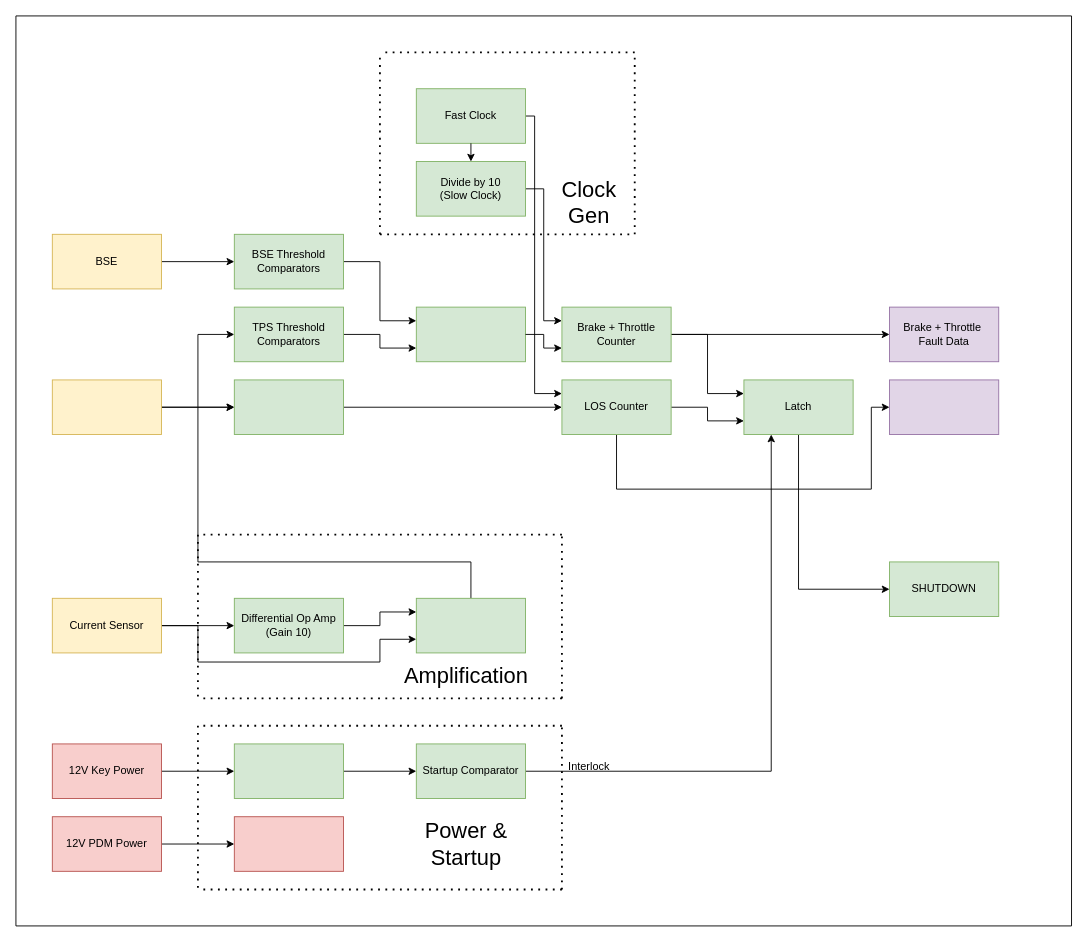
Image size: 1088x943. Some labels were removed from this diagram. Each missing label, with the box of its shape:
5V LDO: (233, 816, 344, 871)
AND Gate: (415, 306, 526, 362)
LOS Comparators: (233, 379, 344, 435)
LOS Fault Data: (889, 379, 999, 435)
RC Timer: (233, 743, 344, 799)
Summing Op Amp: (415, 597, 526, 653)
TPS: (51, 379, 162, 435)
